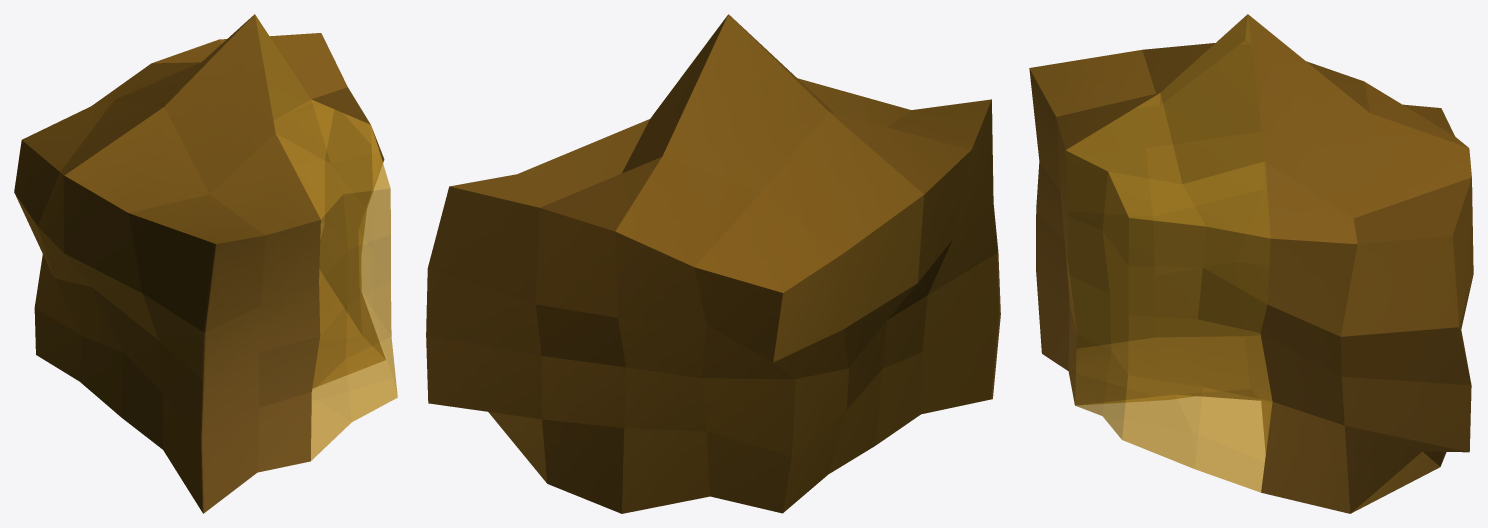
Rendered from Wood1.glb.
3 renders of one model, left to right at view 1: azimuth 30°, elevation 25°; view 2: azimuth 150°, elevation 25°; view 3: azimuth 270°, elevation 25°, orthographic. The views are drawn at different scales.
Parts seen in each view (by area): view 1: Wood1; view 2: Wood1; view 3: Wood1.
Boxes of the visible parts, x1,y1,x2,y2 form: Wood1: [14, 14, 397, 513]; Wood1: [426, 14, 1000, 513]; Wood1: [1029, 14, 1473, 513].
Size of the model in its own units: 1.31 by 1.37 by 1.29.
2 materials, 1 textured.
